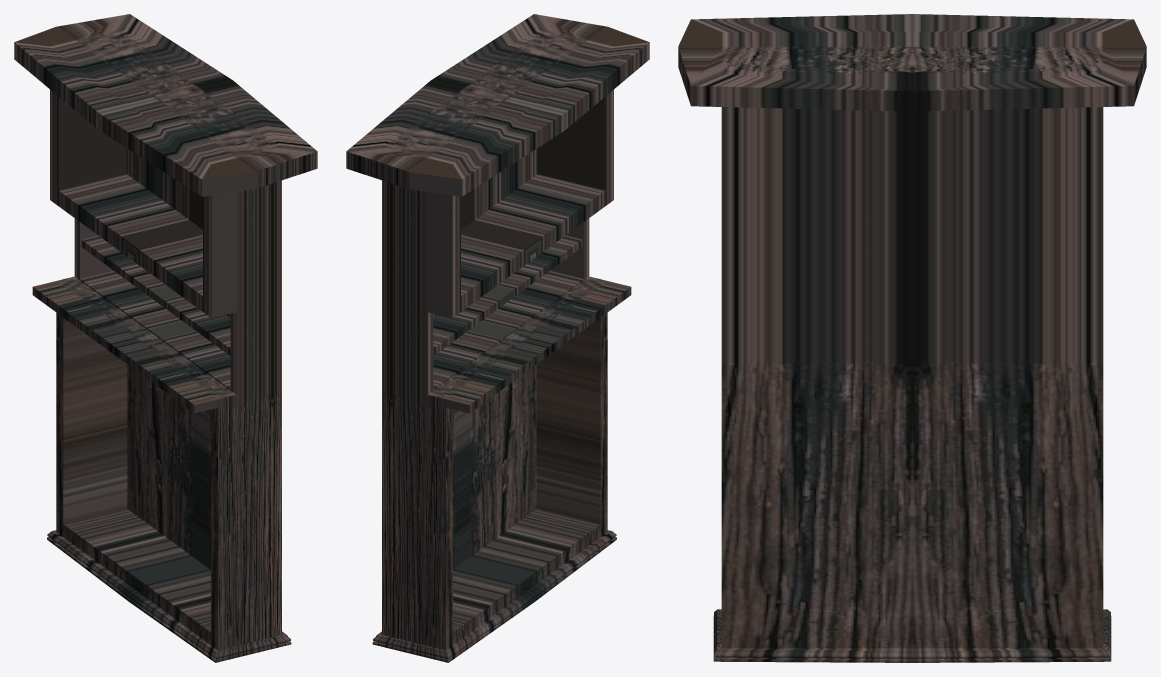
File: myDuladddp.fbx
3 views of the same model, side by side, from view 1: azimuth 30°, elevation 25°; view 2: azimuth 150°, elevation 25°; view 3: azimuth 270°, elevation 25° (orthographic). The views are drawn at different scales.
Visible parts, largest first — view 1: Cube; view 2: Cube; view 3: Cube.
Part boxes in pixels (<box>): Cube: <box>14,14,317,662</box>; Cube: <box>346,14,649,662</box>; Cube: <box>678,14,1146,662</box>.
Bounding box in the file's own units: 419 × 1478 × 1072.
